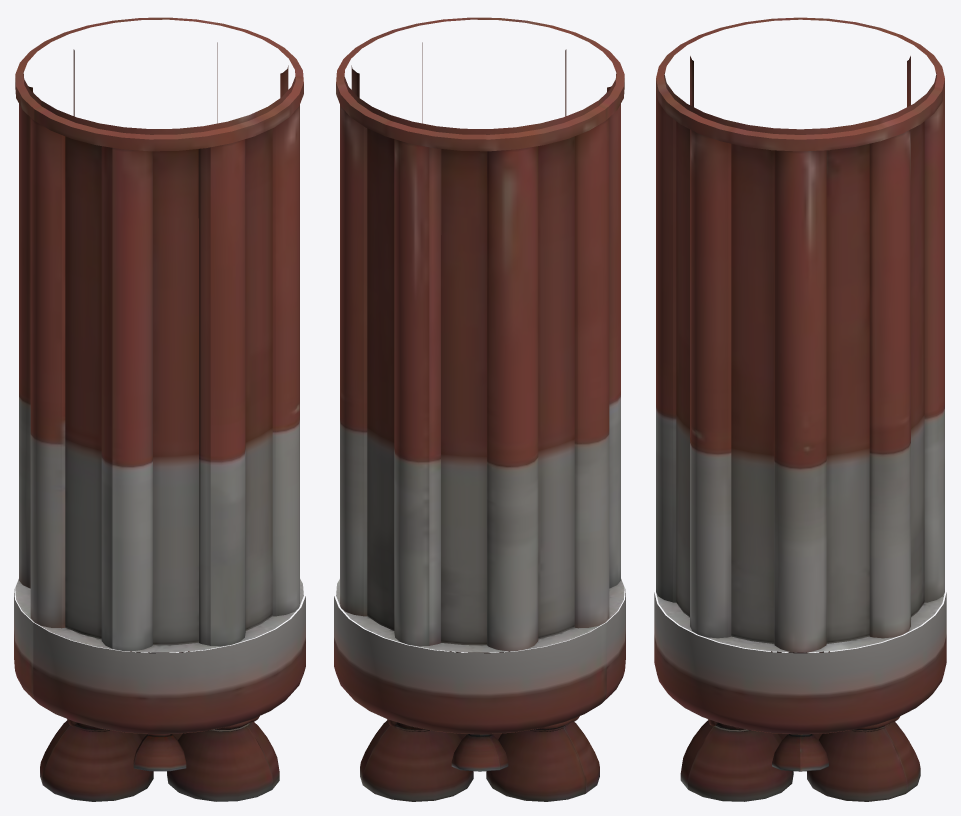
The picture shows the model from 3 angles, left to right: view 1: azimuth 30°, elevation 25°; view 2: azimuth 150°, elevation 25°; view 3: azimuth 270°, elevation 25°; orthographic projection.
Visible parts, largest first — view 1: body0_model0_lod0_mesh1, body0_model0_lod0_mesh0; view 2: body0_model0_lod0_mesh1, body0_model0_lod0_mesh0; view 3: body0_model0_lod0_mesh1, body0_model0_lod0_mesh0.
Part boxes in pixels (bbox=[...]): body0_model0_lod0_mesh1: bbox=[15, 17, 303, 652]; body0_model0_lod0_mesh0: bbox=[14, 589, 305, 801]; body0_model0_lod0_mesh1: bbox=[336, 17, 624, 652]; body0_model0_lod0_mesh0: bbox=[334, 589, 625, 801]; body0_model0_lod0_mesh1: bbox=[656, 17, 944, 652]; body0_model0_lod0_mesh0: bbox=[654, 592, 946, 801].
Bounding box in the file's own units: 192 × 499 × 191.
2 materials, 2 textured.
